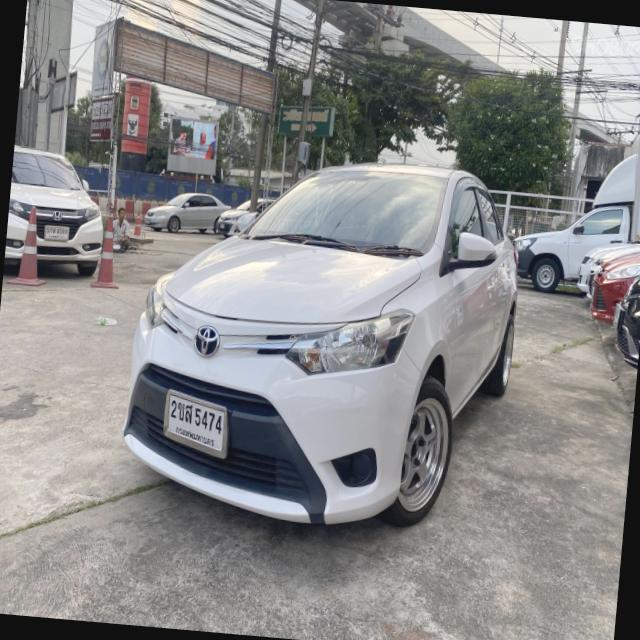license_plate: (160, 381, 232, 462), (42, 223, 70, 242)
